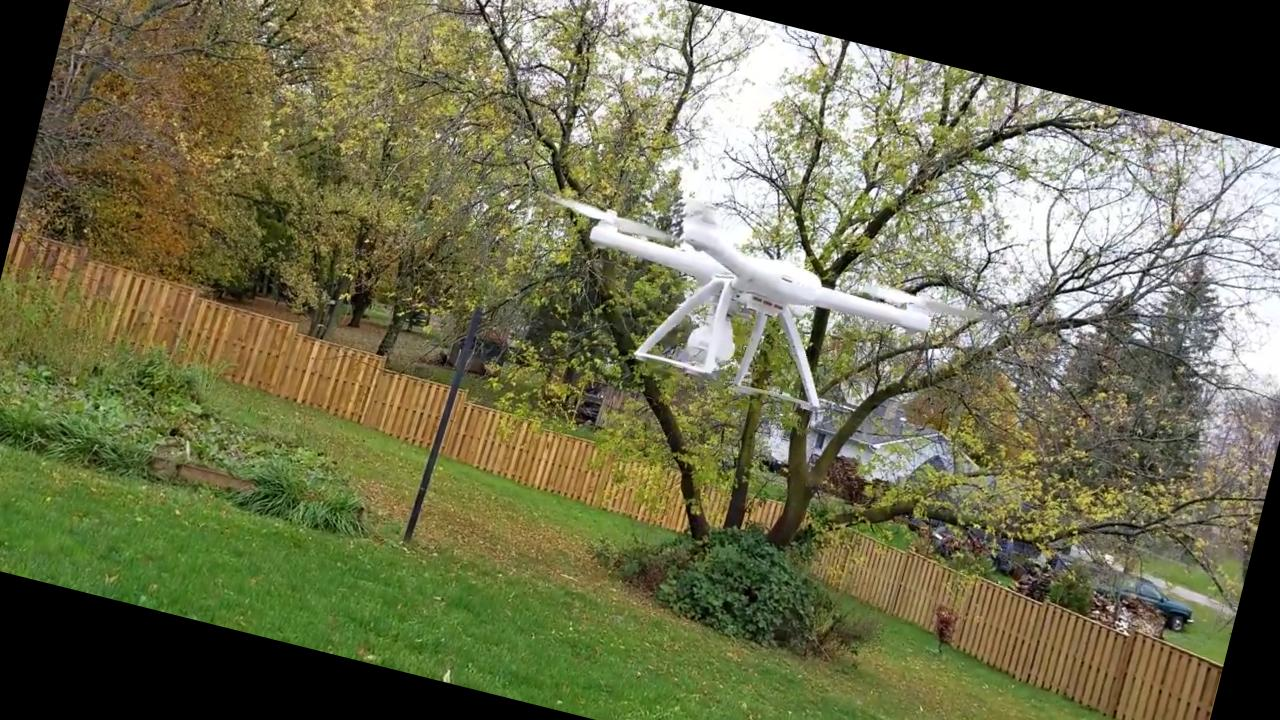drone: (520, 169, 969, 380)
